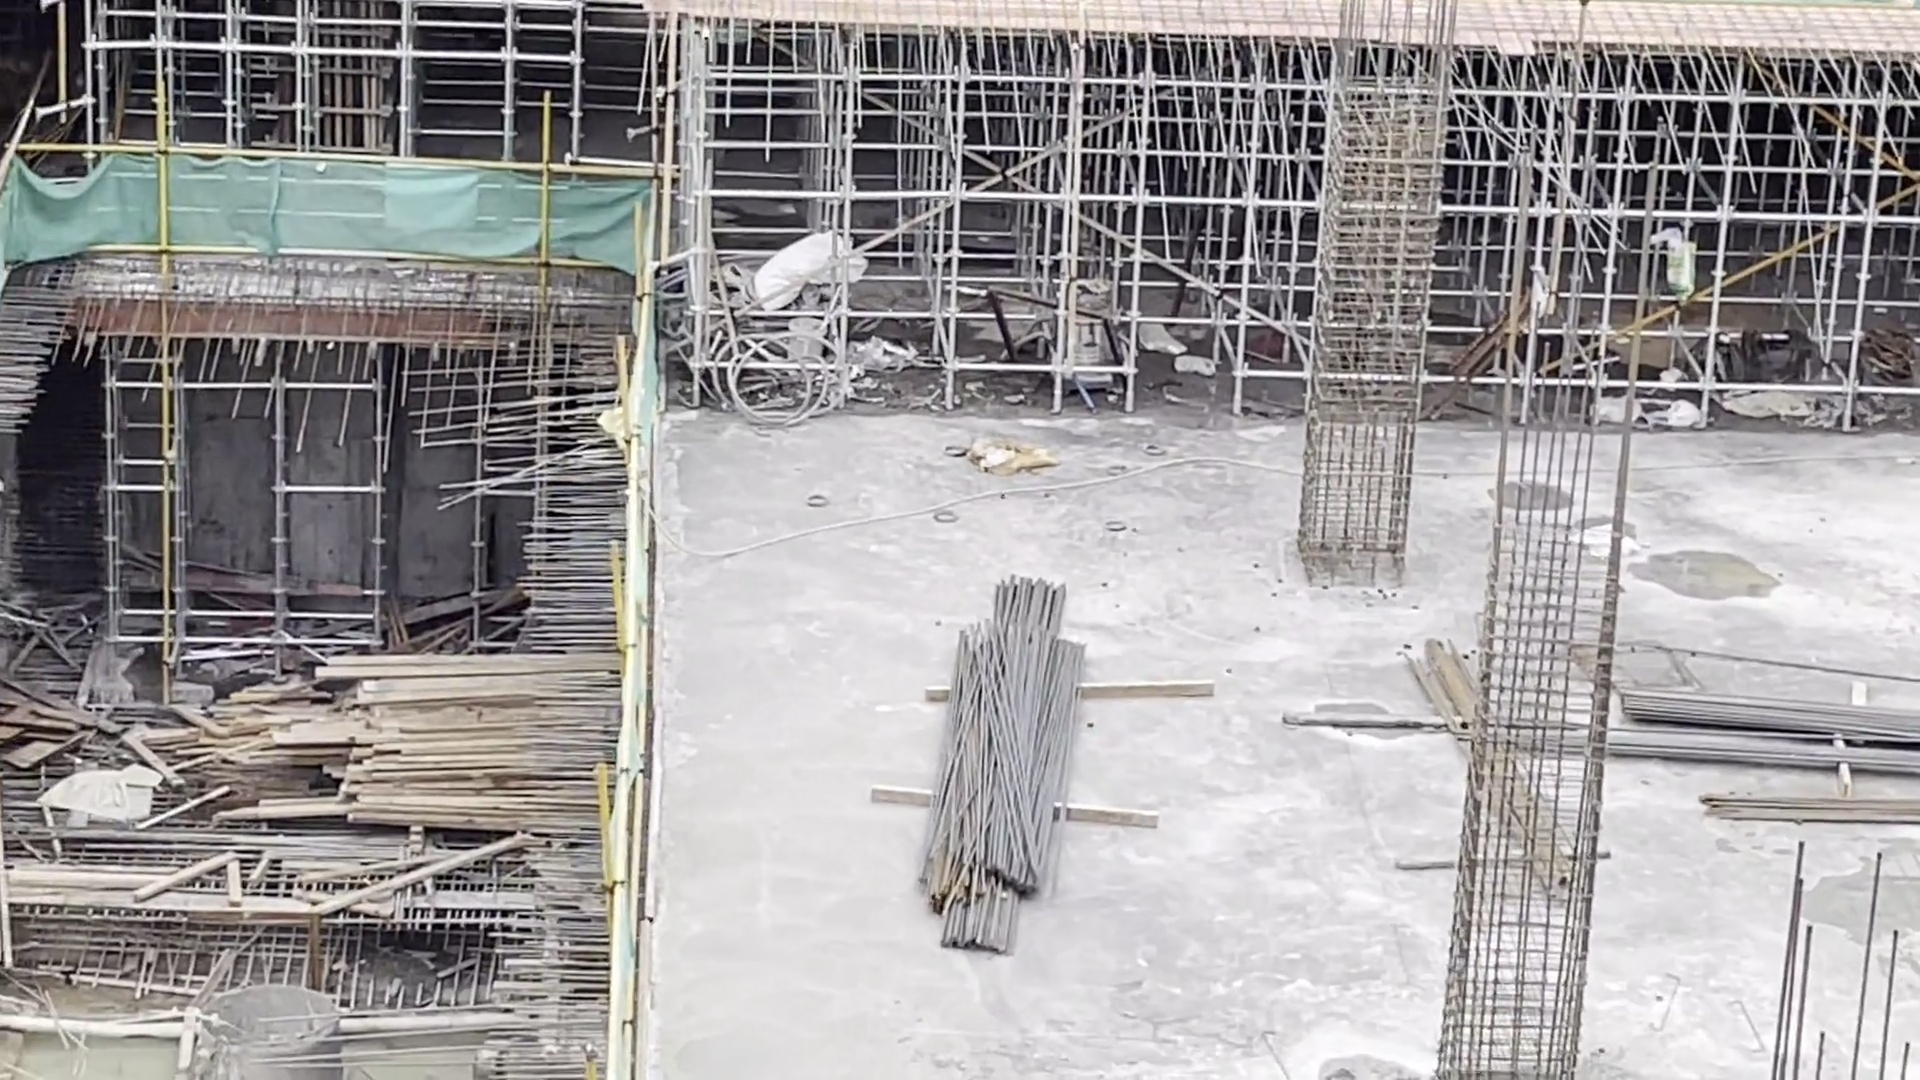rebar: (922, 572, 1087, 957)
wood: (314, 642, 617, 818)
